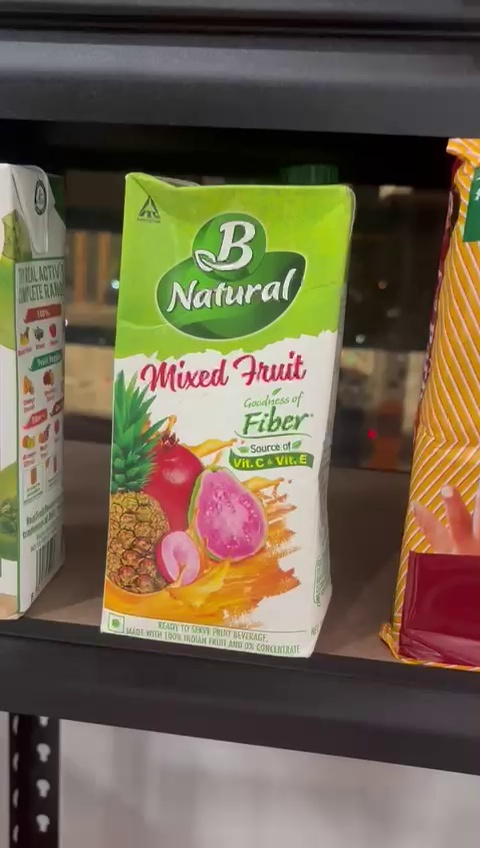Mixed Fruit: (115, 170, 334, 658)
